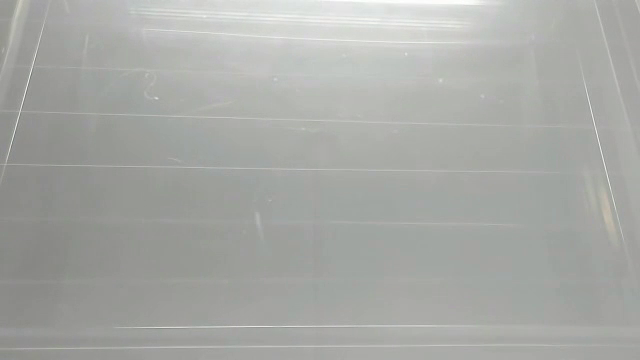alpha: (249, 209, 270, 242)
